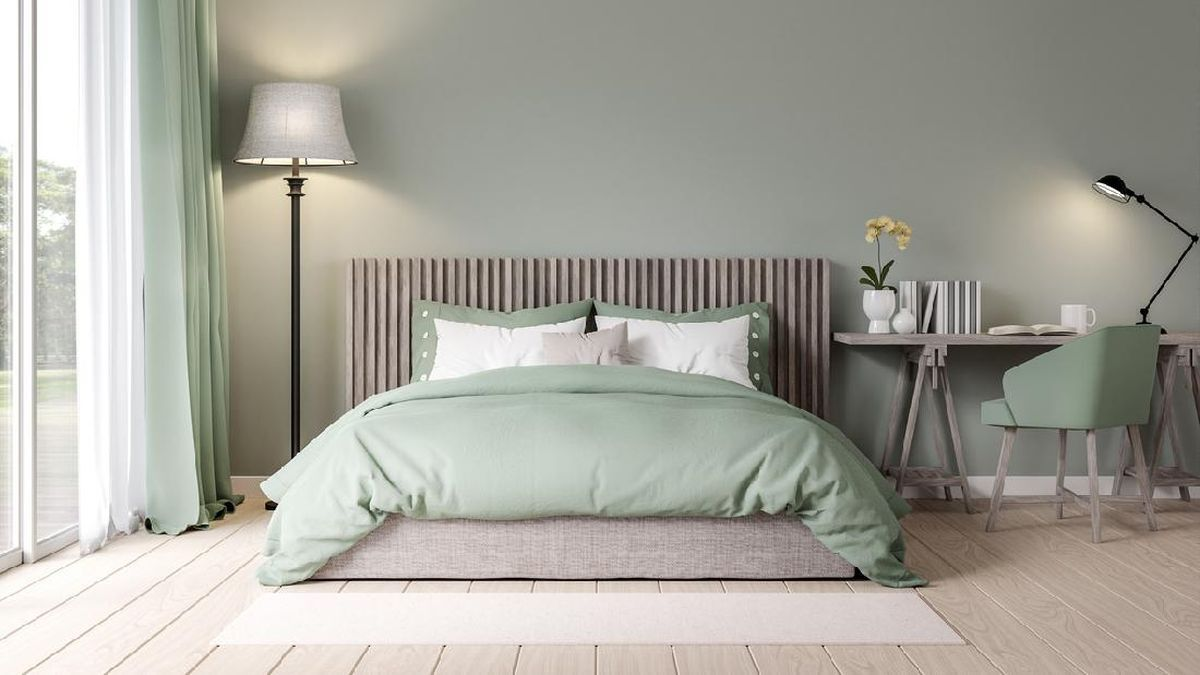lampu: (205, 50, 376, 511), (1067, 149, 1200, 344)
